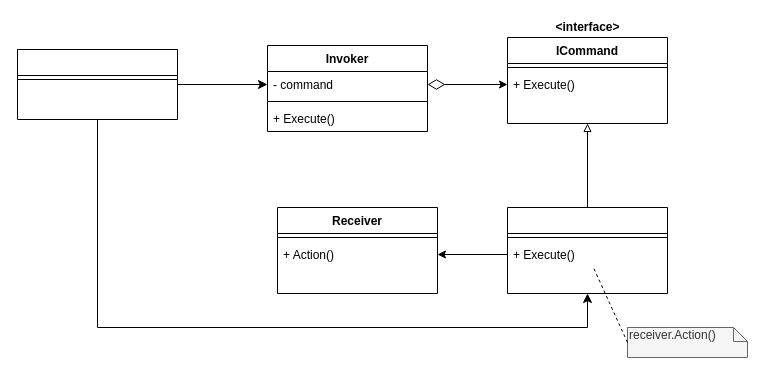
This 765x375 diagram has some shape labels left out. The box of each missing label's shape, as (x1, y1, x2, y2) in pixels:
Client: (16, 48, 178, 120)
ConcreteCommand: (506, 206, 668, 294)
